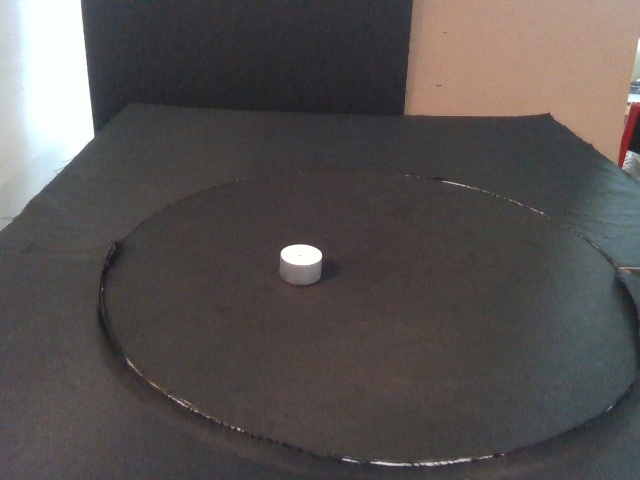candle: (278, 243, 324, 287)
